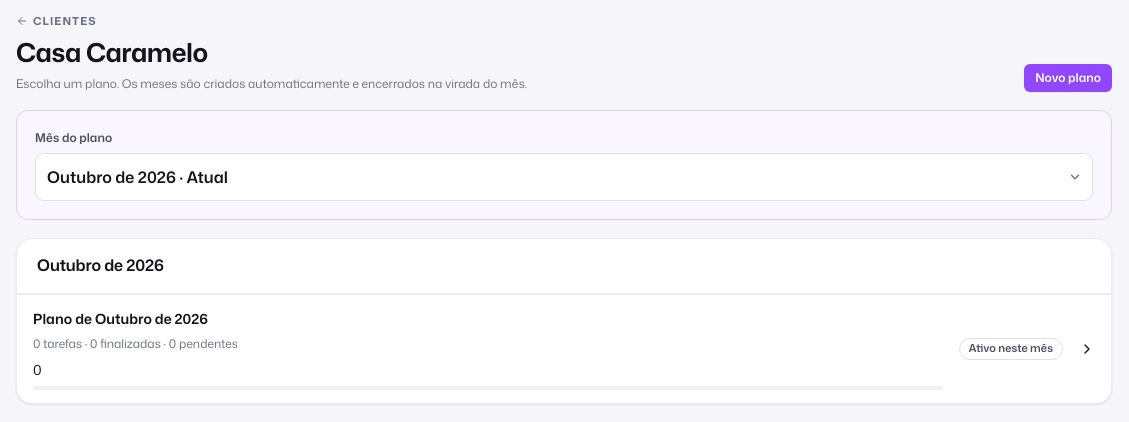
Test: abre no mês atual e permite escolher setembro no topo para consultar o histórico
Check: the link to "/planos/10" is shown, box [33,308,942,390]
Select "Setembro de 2026 · Encerrado" in the dropdown named "Mês do plano" at (564, 177), box [35,153,1093,201]
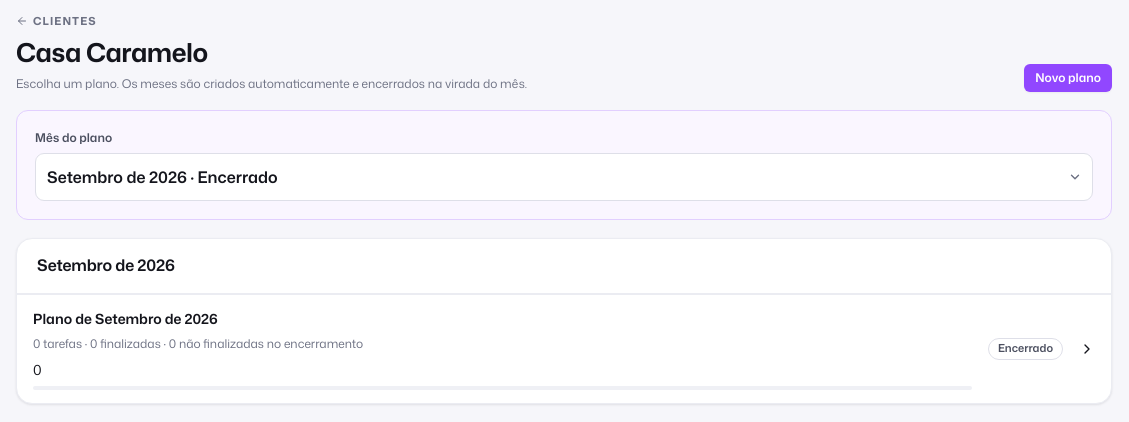
Check: the link to "/planos/09" is shown, box [33,308,972,390]
Check: the link to "/planos/10" is gone
Check: the list item shows "Encerrado", box [998,340,1053,356]
